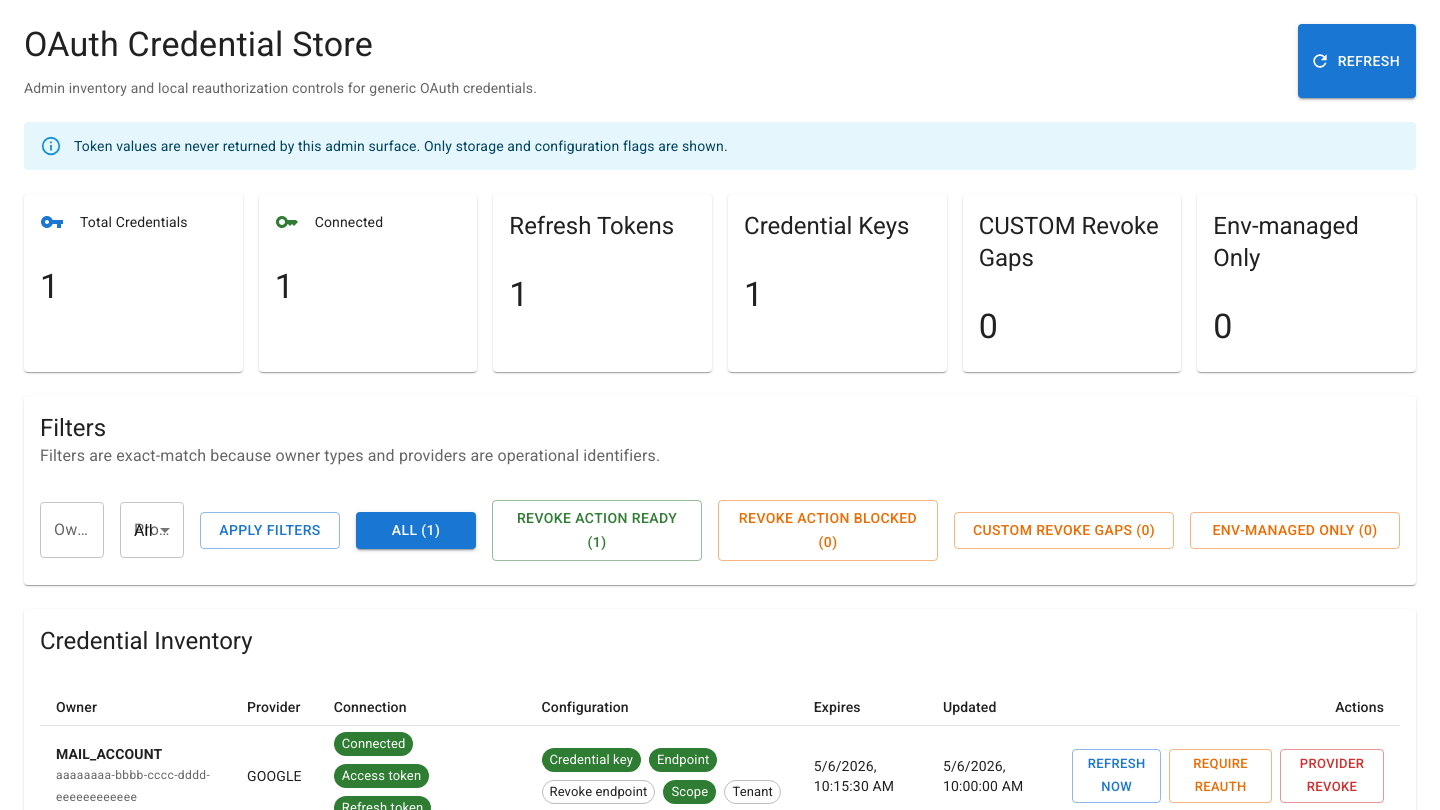
Test: requires reauthorization by clearing stored token status
Expected: the text "MAIL_ACCOUNT" is shown, 56,746 -> 162,762
Click the button "Require Reauth".
click(1221, 776)  # box 1169,749 -> 1272,803
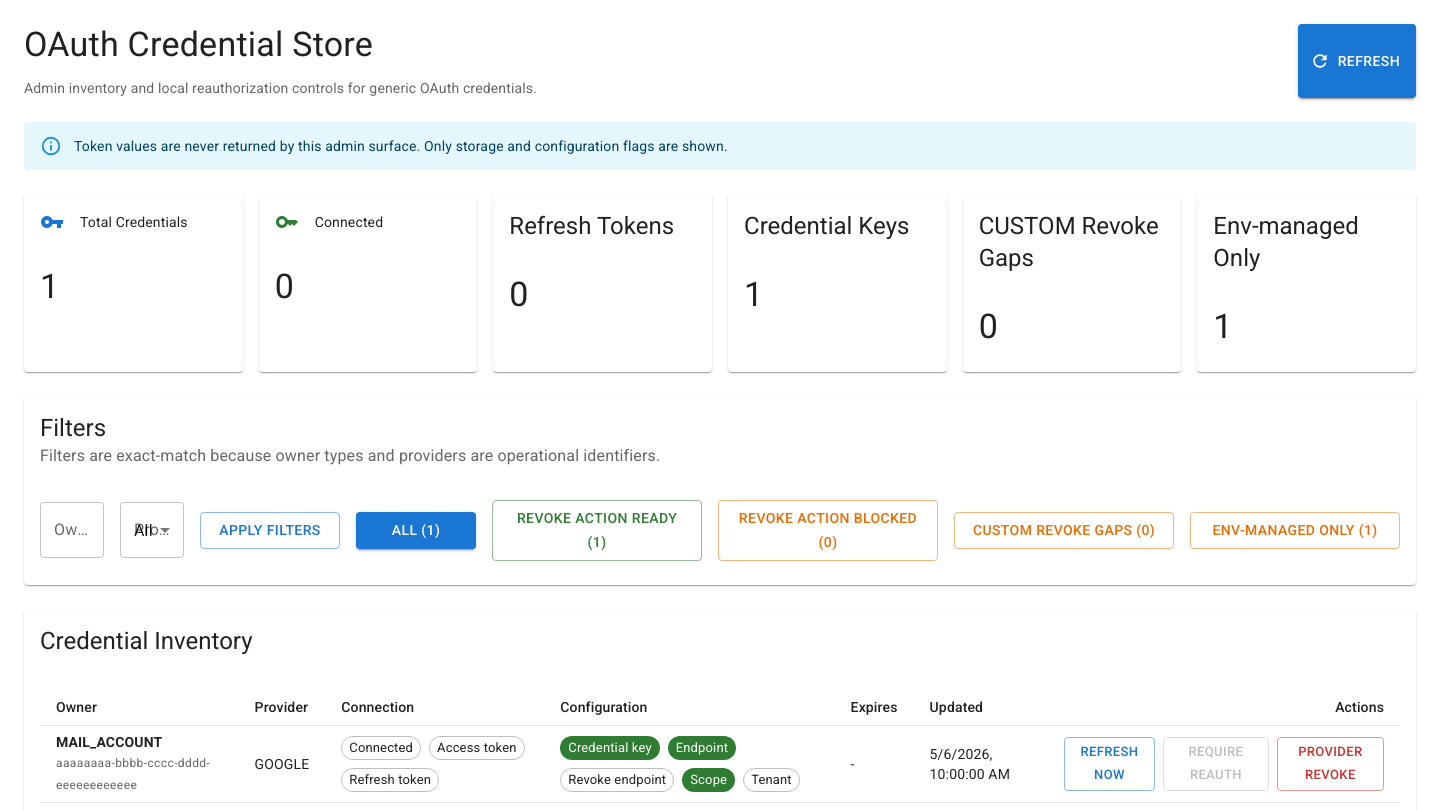
Expected: the button "Require Reauth" is disabled, 1163,737 -> 1269,791
